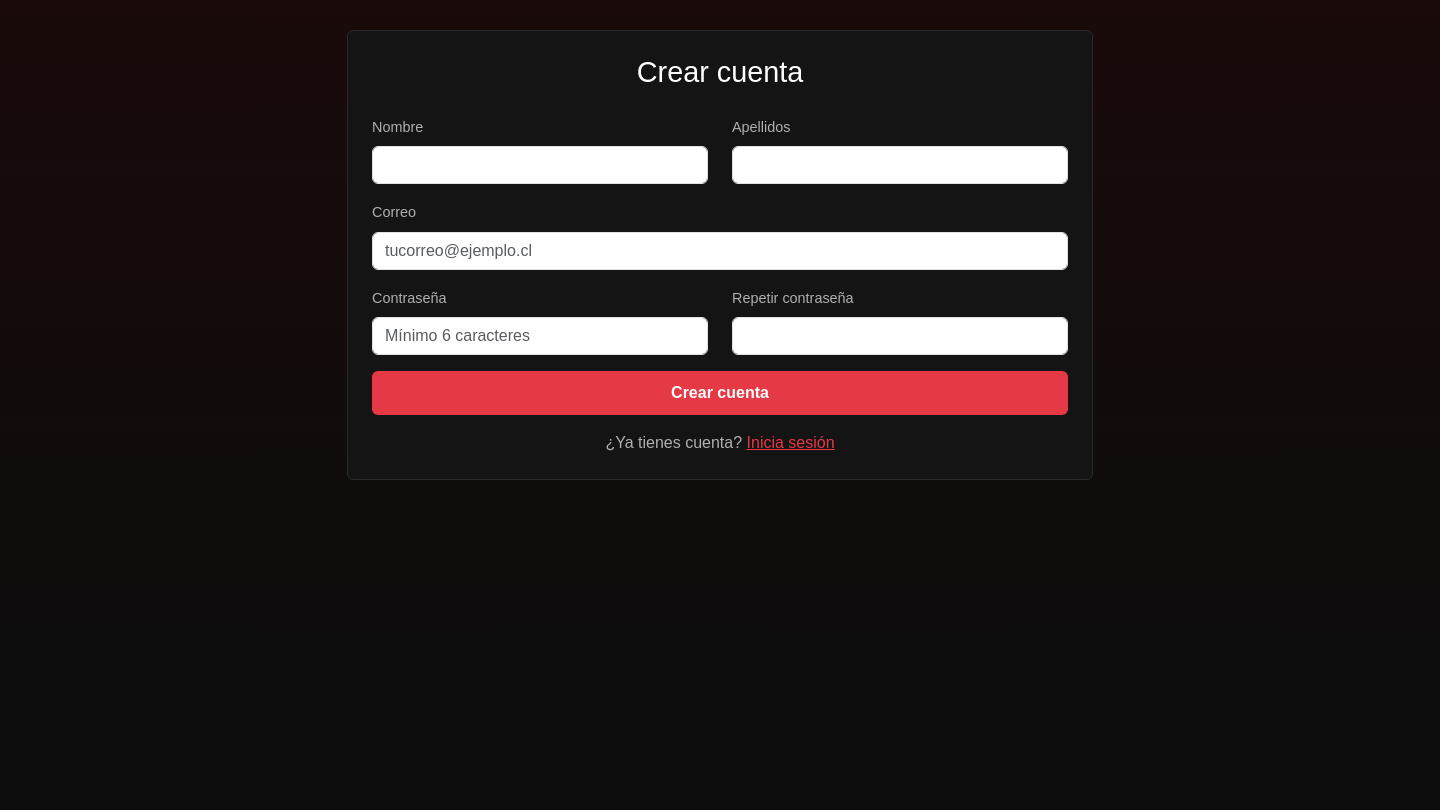
Test: Register (página) › con el formulario vacío muestra los errores de validación
Click the button "Crear cuenta". click: [720, 393]
box: [372, 371, 1068, 415]
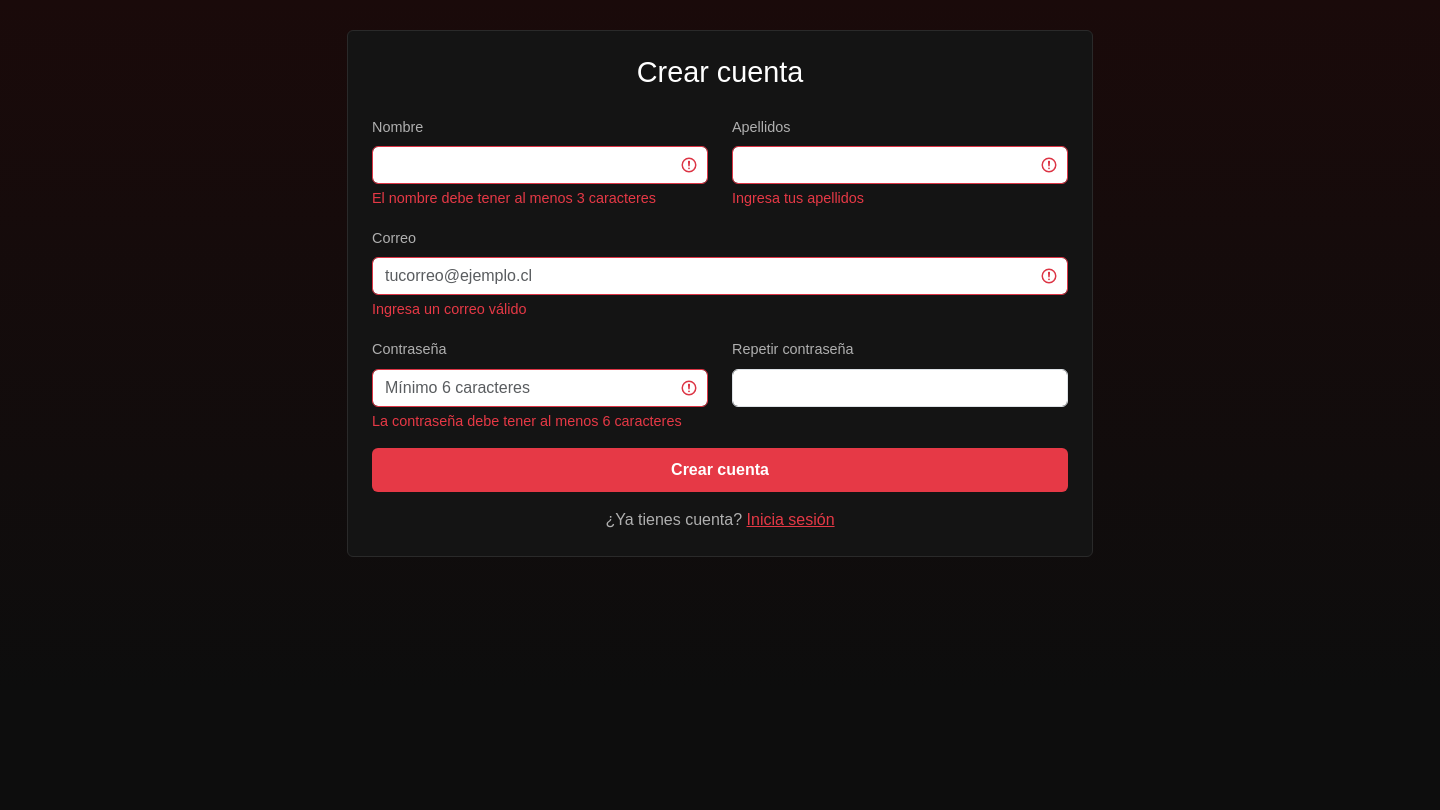
Now the text "El nombre debe tener al menos 3 caracteres" is shown, box [372, 190, 656, 206]
Now the text "Ingresa un correo válido" is shown, box [372, 301, 526, 317]
Now the text "La contraseña debe tener al menos 6 caracteres" is shown, box [372, 411, 708, 432]
